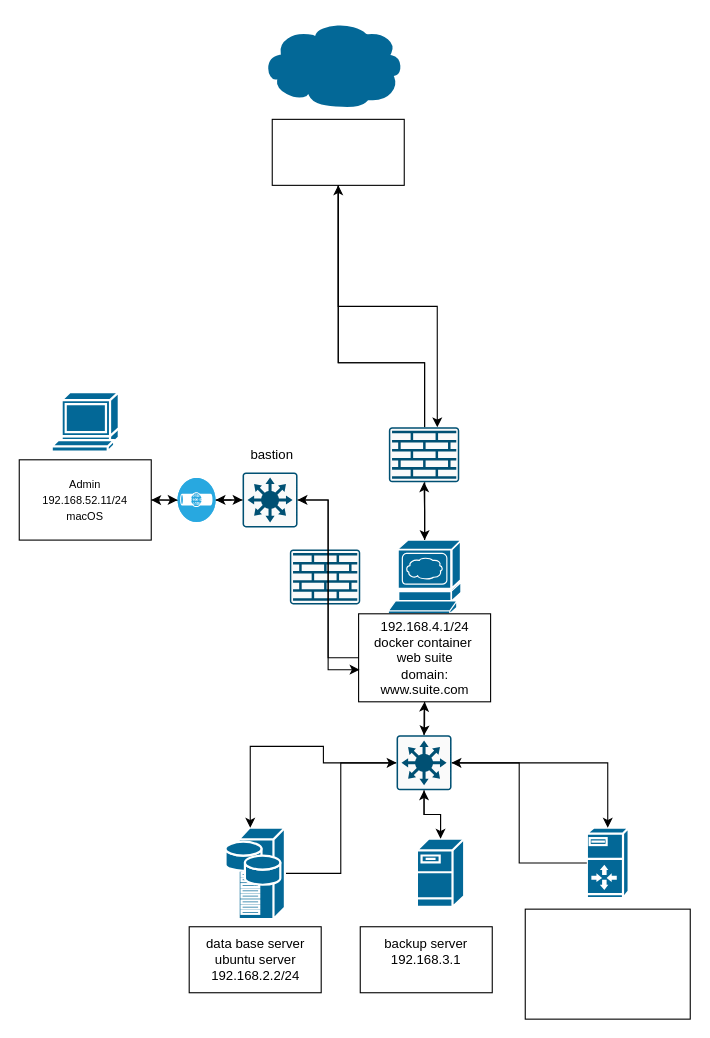
The diagram is 710 pixels wide and 1038 high, and some of its shapes have lost their labels. Here are the shapes that lost their labels. From the top down, the centre of each, then its label:
At [337,151]: "Cloude | Ethernet".
At [607,963]: "192.168.1.1 ubuntu server observer siem grafana suricata".
